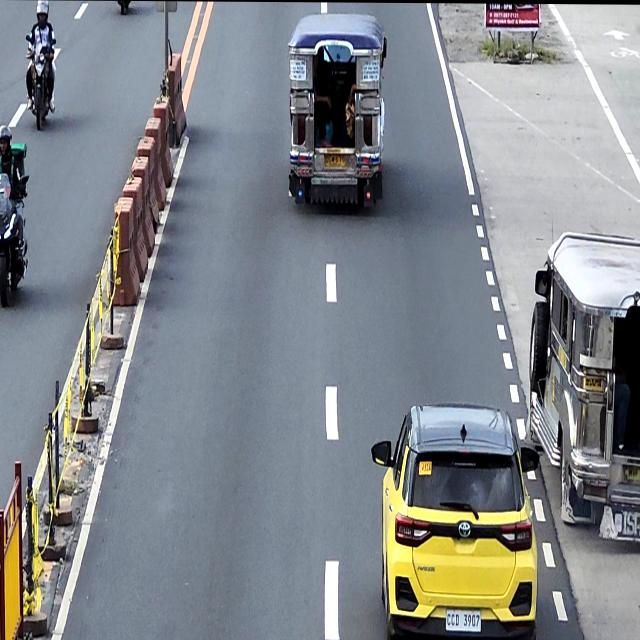Car: (370, 400, 540, 640)
Jeep: (528, 229, 640, 543), (287, 10, 387, 207)
License-Plate: (444, 606, 482, 632), (621, 463, 640, 487), (324, 152, 346, 169)
Motorcycle: (0, 172, 29, 308), (24, 33, 56, 131)
